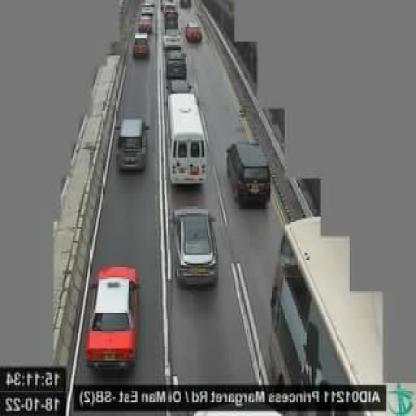Bus: (277, 220, 386, 402), (164, 92, 210, 189)
Car: (82, 264, 141, 374), (169, 205, 219, 291), (226, 145, 271, 213), (114, 115, 151, 179), (165, 47, 188, 80), (131, 30, 149, 59), (184, 21, 204, 46), (160, 27, 184, 46), (134, 16, 150, 34), (141, 2, 156, 16)
